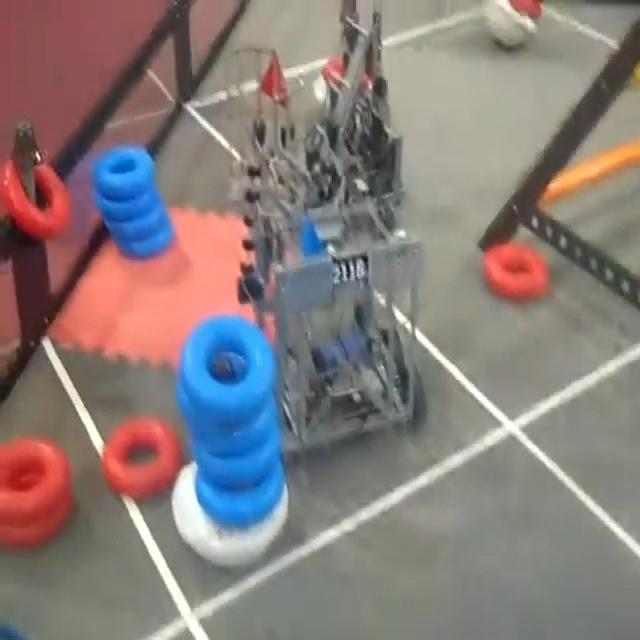Blue-Ring: (178, 315, 275, 424), (196, 462, 285, 528), (196, 430, 282, 490), (191, 397, 279, 454), (106, 207, 175, 258), (95, 147, 155, 200), (105, 202, 170, 241), (96, 188, 162, 221)
Red-Ring: (102, 418, 181, 498), (0, 437, 71, 524), (0, 162, 71, 239), (484, 242, 550, 300), (0, 511, 65, 546)
